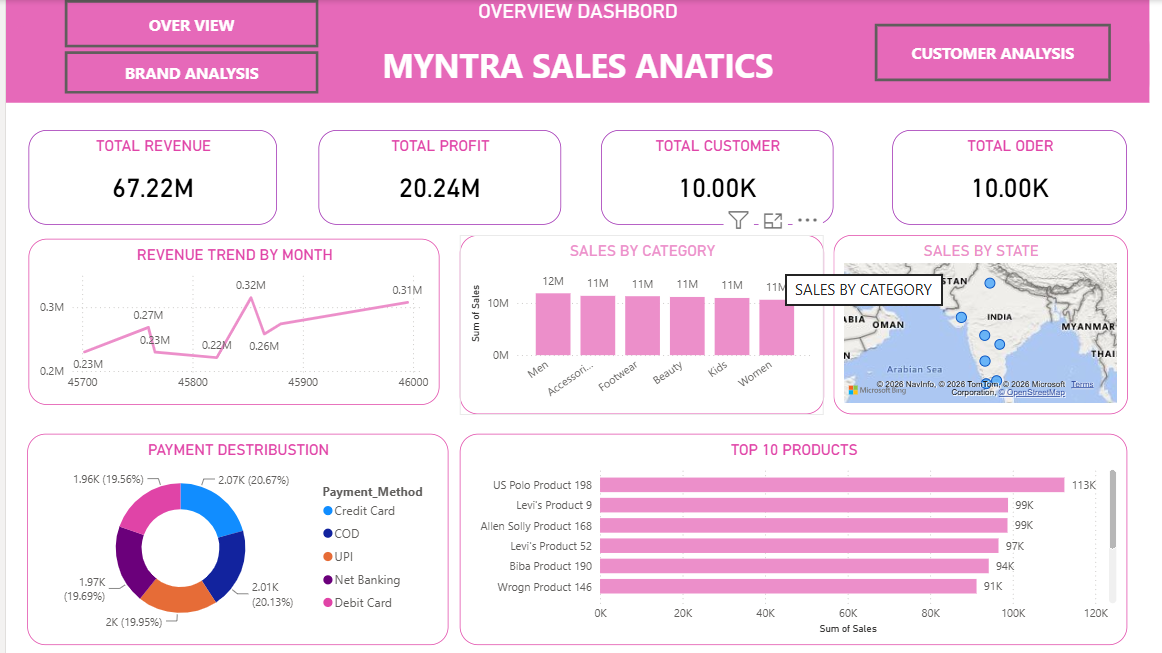

What the dashboard file says about the page in this screenshot:
{"tool":"powerbi","page":{"name":"OVERVIEW","canvas":[1280,720],"ordinal":0},"visuals":[{"type":"shape","title":"OVERVIEW DASHBORD","box":[0,0,1255.6,112.5],"z":0},{"type":"card","title":"TOTAL REVENUE","fields":{"Values":["Sum(Myntra_Sales_Data.Sales)"]},"box":[24.7,142.7,273.1,104.3],"z":1000},{"type":"card","title":"TOTAL ODER","fields":{"Values":["Count(Myntra_Sales_Data.Order_ID)"]},"box":[972.9,142.7,258,104.3],"z":2000},{"type":"card","title":"TOTAL CUSTOMER","fields":{"Values":["CountNonNull(Myntra_Sales_Data.Customer_ID)"]},"box":[653.2,142.7,255.2,104.3],"z":3000},{"type":"card","title":"TOTAL PROFIT","fields":{"Values":["Sum(Myntra_Sales_Data.Profit)"]},"box":[343.1,142.7,266.2,104.3],"z":4000},{"type":"lineChart","title":"REVENUE TREND BY MONTH","fields":{"Y":["Sum(Myntra_Sales_Data.Sales)"],"Category":["Myntra_Sales_Data.Order_Date"]},"box":[24.5,261.7,451.2,182.2],"z":5000},{"type":"clusteredColumnChart","title":"SALES BY CATEGORY","fields":{"Category":["Myntra_Sales_Data.Category"],"Y":["Sum(Myntra_Sales_Data.Sales)"]},"box":[497.7,258,399.9,196.9],"z":6000},{"type":"map","title":"SALES BY STATE","fields":{"Category":["Myntra_Sales_Data.State"],"Size":["Sum(Myntra_Sales_Data.Sales)"]},"box":[908.6,258,322.8,196.9],"z":7000},{"type":"donutChart","title":"PAYMENT DESTRIBUSTION","fields":{"Category":["Myntra_Sales_Data.Payment_Method"],"Y":["CountNonNull(Myntra_Sales_Data.Order_ID)"]},"box":[23.3,476.2,462.4,231.9],"z":8000},{"type":"barChart","title":"TOP 10 PRODUCTS","fields":{"Category":["Myntra_Sales_Data.Product_Name"],"Y":["Sum(Myntra_Sales_Data.Sales)"]},"box":[498.1,476.2,732.8,231.9],"z":9000},{"type":"actionButton","box":[64.5,0,278.6,52.1],"z":10000},{"type":"actionButton","box":[64.5,56.3,278.6,46.7],"z":11000},{"type":"actionButton","box":[953.7,26.1,259.3,63.1],"z":12000}]}

Visuals, with their boxes in screenshot pixels (x1, y1, x2, y2), scaled from the page's 1280x720 canvas onto the 1162x653 screenshot:
"OVERVIEW DASHBORD" shape: {"x1": 0, "y1": 0, "x2": 1140, "y2": 102}
"TOTAL REVENUE" card: {"x1": 22, "y1": 129, "x2": 270, "y2": 224}
"TOTAL ODER" card: {"x1": 883, "y1": 129, "x2": 1117, "y2": 224}
"TOTAL CUSTOMER" card: {"x1": 593, "y1": 129, "x2": 825, "y2": 224}
"TOTAL PROFIT" card: {"x1": 311, "y1": 129, "x2": 553, "y2": 224}
"REVENUE TREND BY MONTH" lineChart: {"x1": 22, "y1": 237, "x2": 432, "y2": 403}
"SALES BY CATEGORY" clusteredColumnChart: {"x1": 452, "y1": 234, "x2": 815, "y2": 413}
"SALES BY STATE" map: {"x1": 825, "y1": 234, "x2": 1118, "y2": 413}
"PAYMENT DESTRIBUSTION" donutChart: {"x1": 21, "y1": 432, "x2": 441, "y2": 642}
"TOP 10 PRODUCTS" barChart: {"x1": 452, "y1": 432, "x2": 1117, "y2": 642}
actionButton: {"x1": 59, "y1": 0, "x2": 311, "y2": 47}
actionButton: {"x1": 59, "y1": 51, "x2": 311, "y2": 93}
actionButton: {"x1": 866, "y1": 24, "x2": 1101, "y2": 81}
